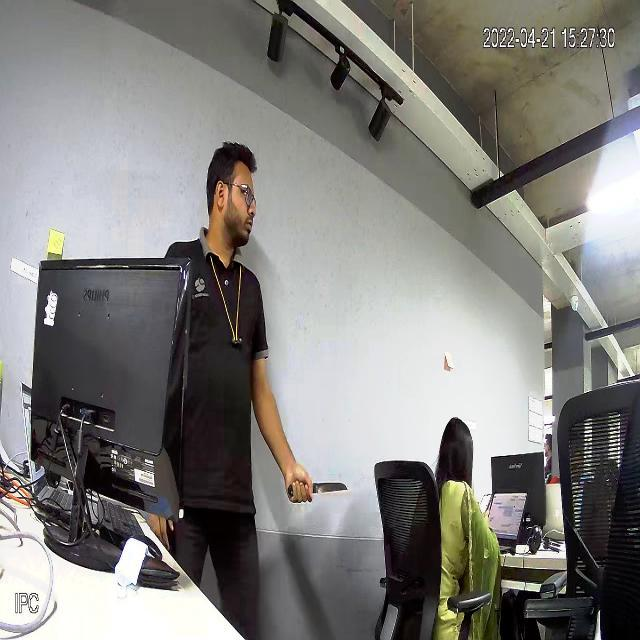Knife: (289, 465, 356, 511)
